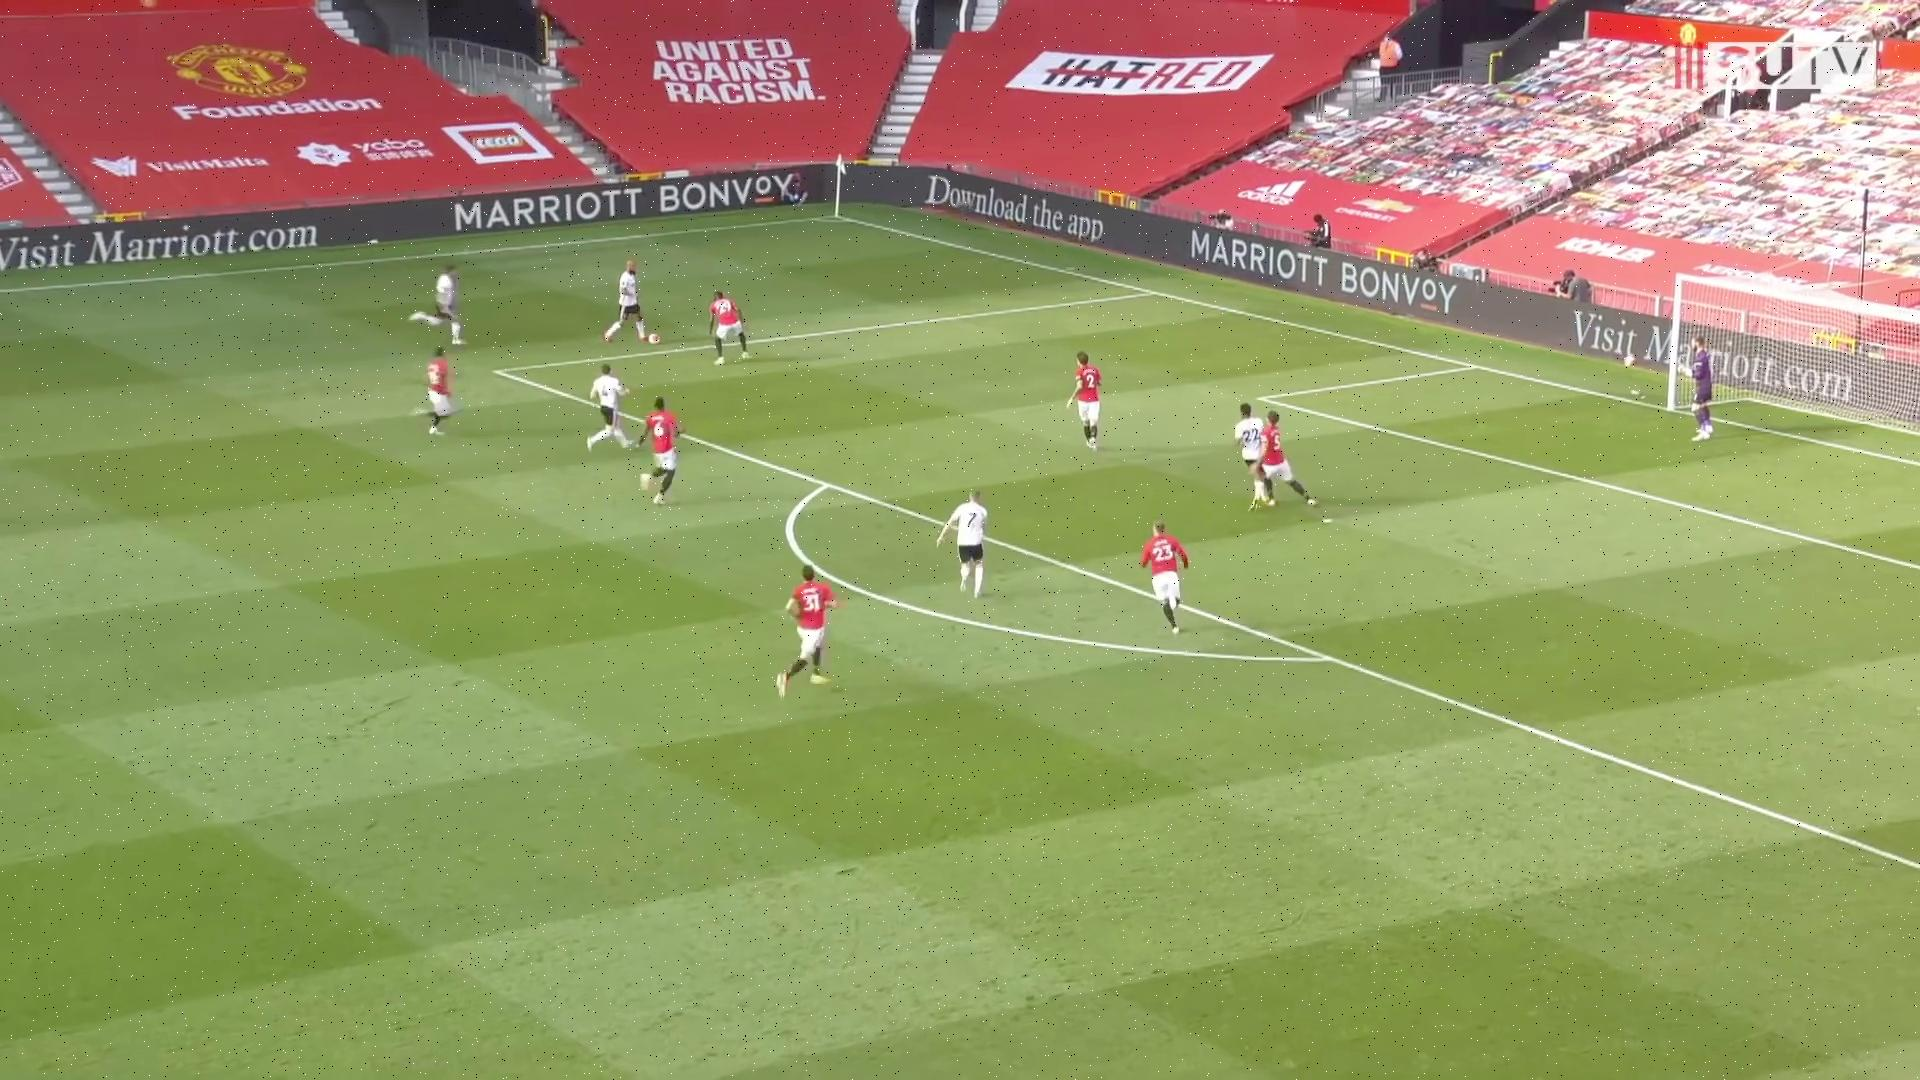ball: (647, 332, 661, 347)
